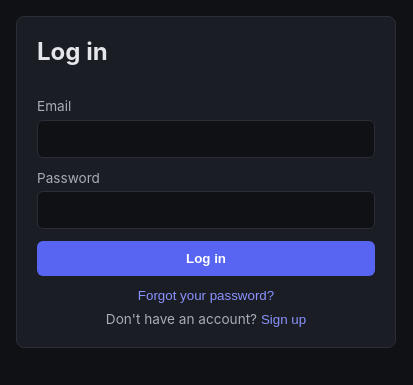
Test: forgot password › lets you resend after a 60 second wait, and says only the newest link works
Later steps or results of the test are not shown.
Click the button "Forgot your password?" at coordinates (206, 295), box 138,288 -> 274,303
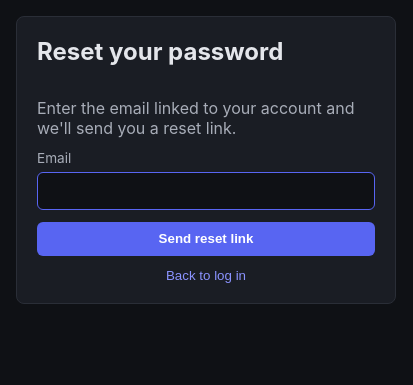
Type "ada@example.com" into the field labelled "Email" at coordinates (206, 191), box 37,172 -> 375,210
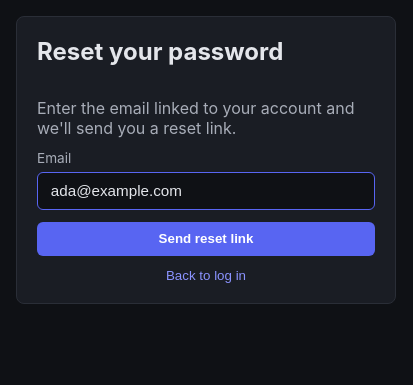
Click the button "Send reset link" at coordinates (206, 239), box 37,222 -> 375,256
Wait 60000 ms
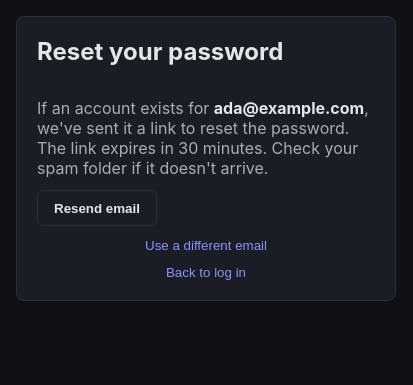
Expected: the button "Resend email" is enabled
Click the button "Resend email" at coordinates (97, 208), box 37,190 -> 157,226
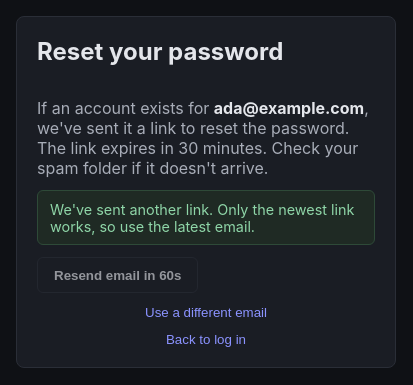
Expected: the text "Only the newest link works" is shown, 50,200 -> 354,234
